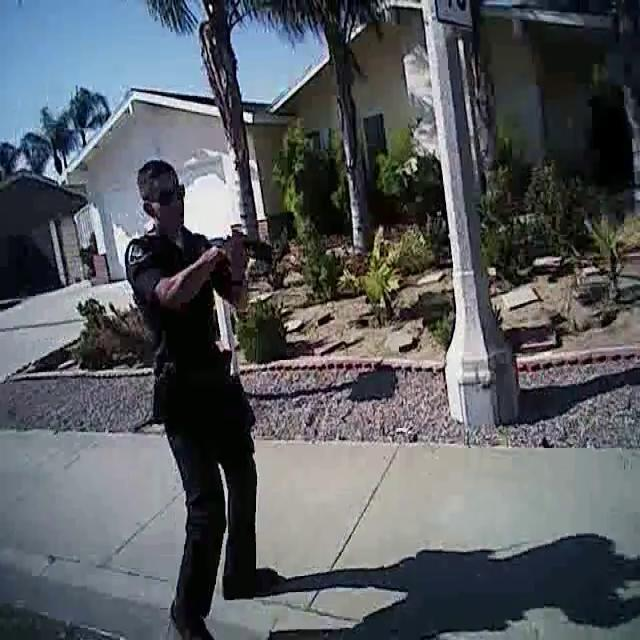gun: (209, 209, 287, 289)
